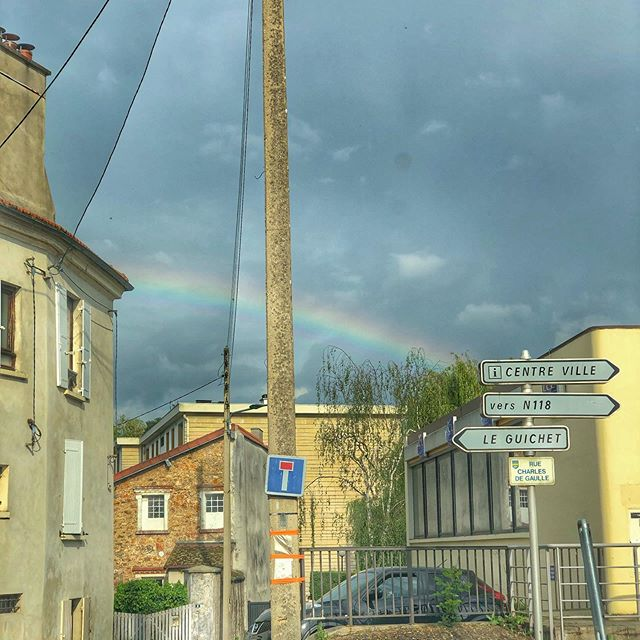building: (1, 30, 123, 640), (112, 399, 410, 640), (399, 340, 640, 631)
rainbow: (123, 261, 478, 395)
sign: (454, 351, 620, 492)
sky: (119, 1, 640, 402)
